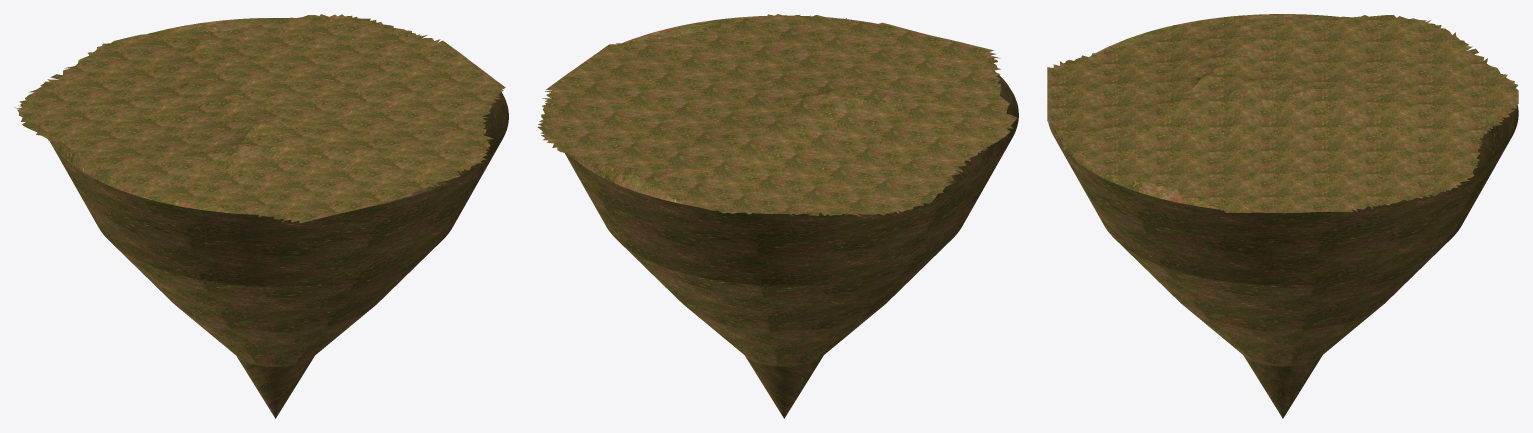
Rendered from terrain001.glb.
3 views of the same model, side by side, from view 1: azimuth 30°, elevation 25°; view 2: azimuth 150°, elevation 25°; view 3: azimuth 270°, elevation 25° (orthographic).
Visible parts, largest first — view 1: Terrain001_1K, skirt; view 2: Terrain001_1K, skirt; view 3: Terrain001_1K, skirt.
Boxes of the visible parts, x1,y1,x2,y2 form: Terrain001_1K: (14,14,505,223); skirt: (50,18,508,418); Terrain001_1K: (537,14,1017,216); skirt: (564,15,1018,418); Terrain001_1K: (1047,15,1518,212); skirt: (1048,14,1518,418).
Bounding box in the file's own units: 200 × 149 × 200.
1 material, 1 textured.
